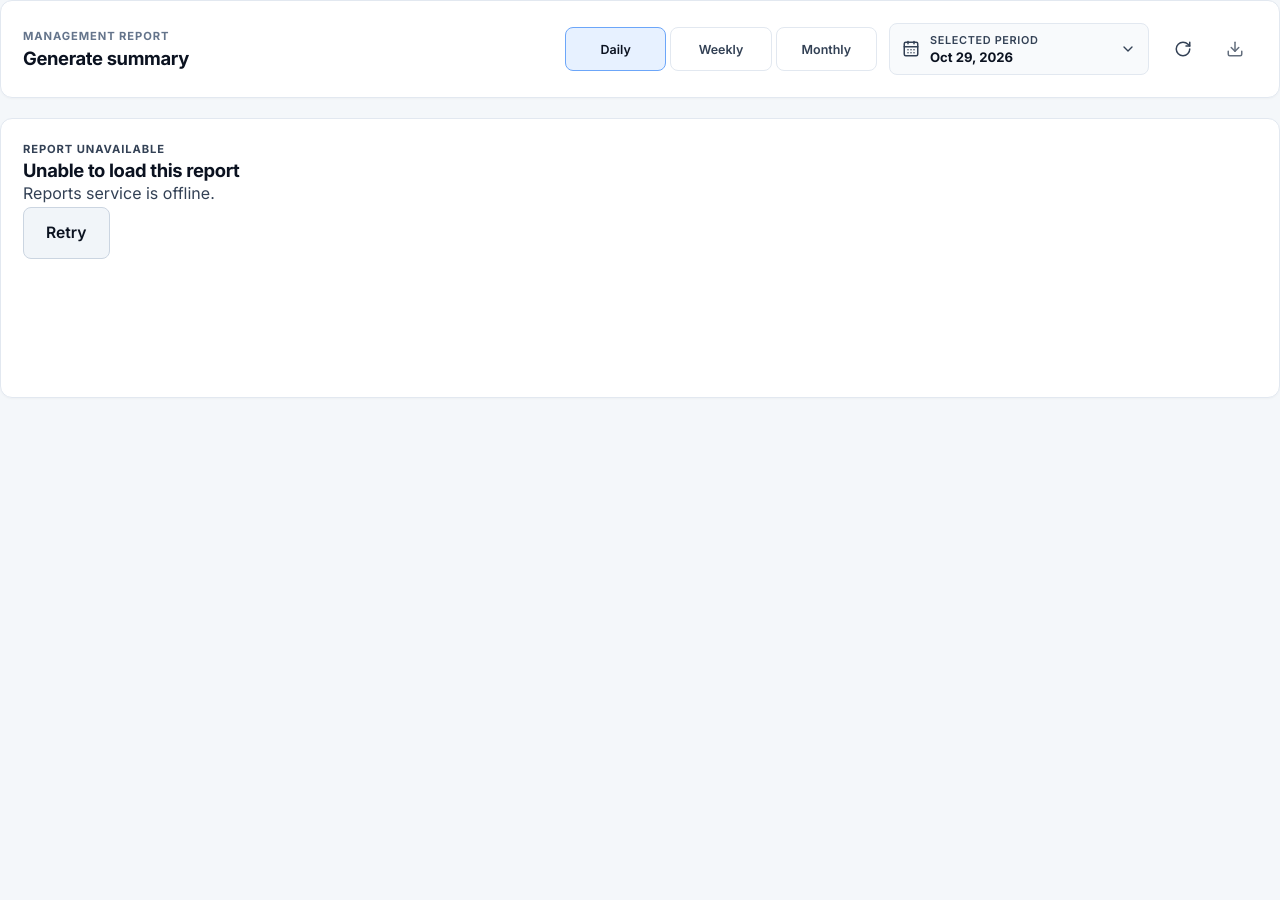
Test: ReportsSection request states › shows an unavailable state on initial failure and retries the same query
The image size is (1280, 900).
Expected: the heading "Unable to load this report" is shown, [23,159,240,181]
Expected: the message reads "Reports service is offline.", [23,183,215,203]
Click the button "Retry" at (66, 232), box [23,206,110,258]
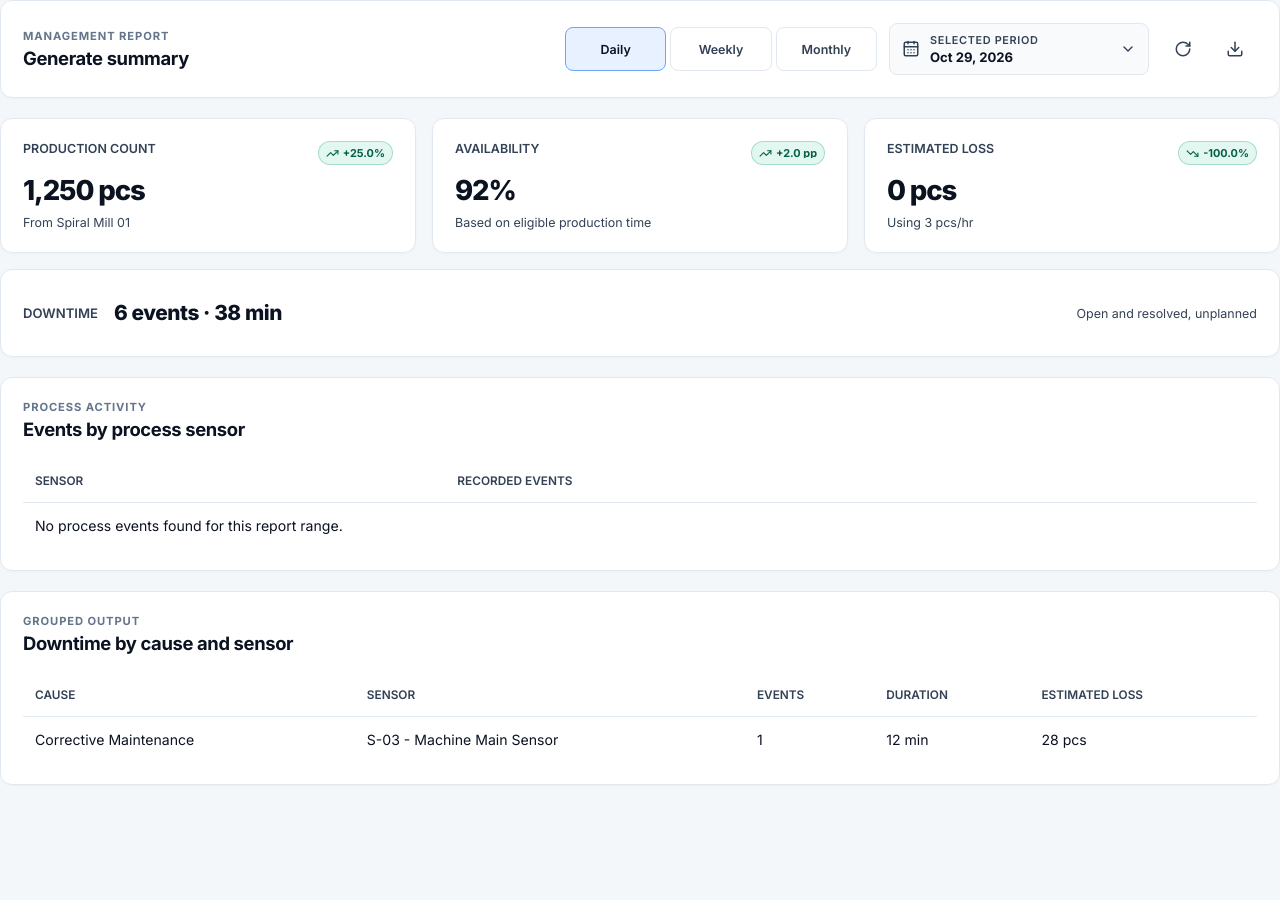
Expected: the text "Corrective Maintenance" is shown, [23,717,355,762]
Expected: the button named "Export report" is enabled, [1213,27,1257,71]
